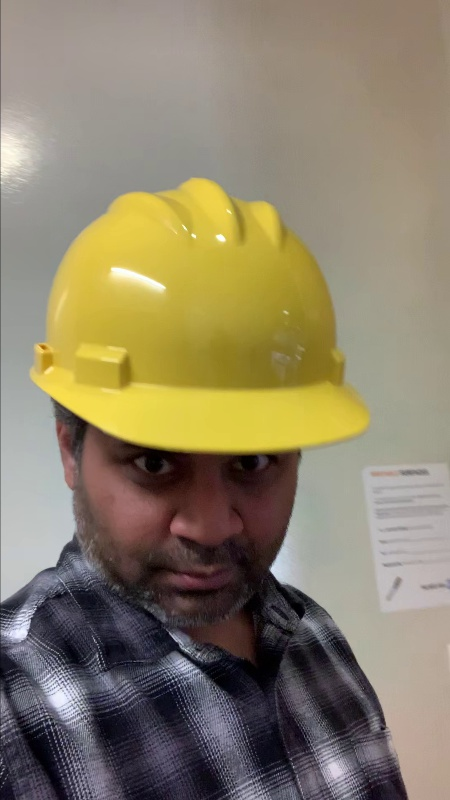helmet: (25, 172, 391, 458)
